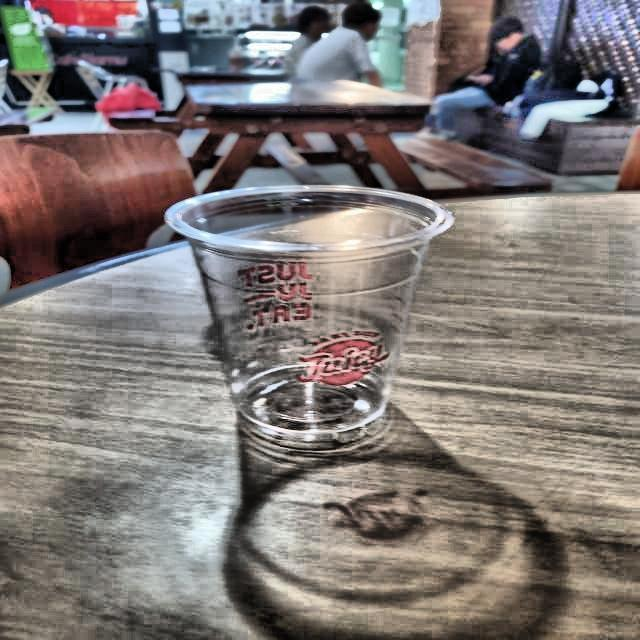plastic cup: (156, 180, 462, 442)
